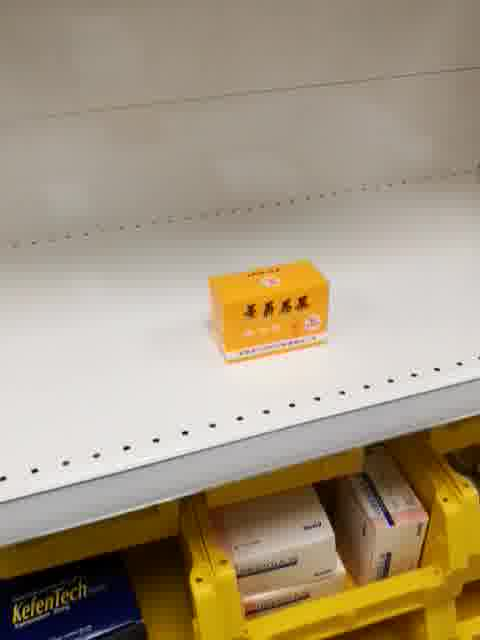jasminetea: (206, 260, 331, 365)
